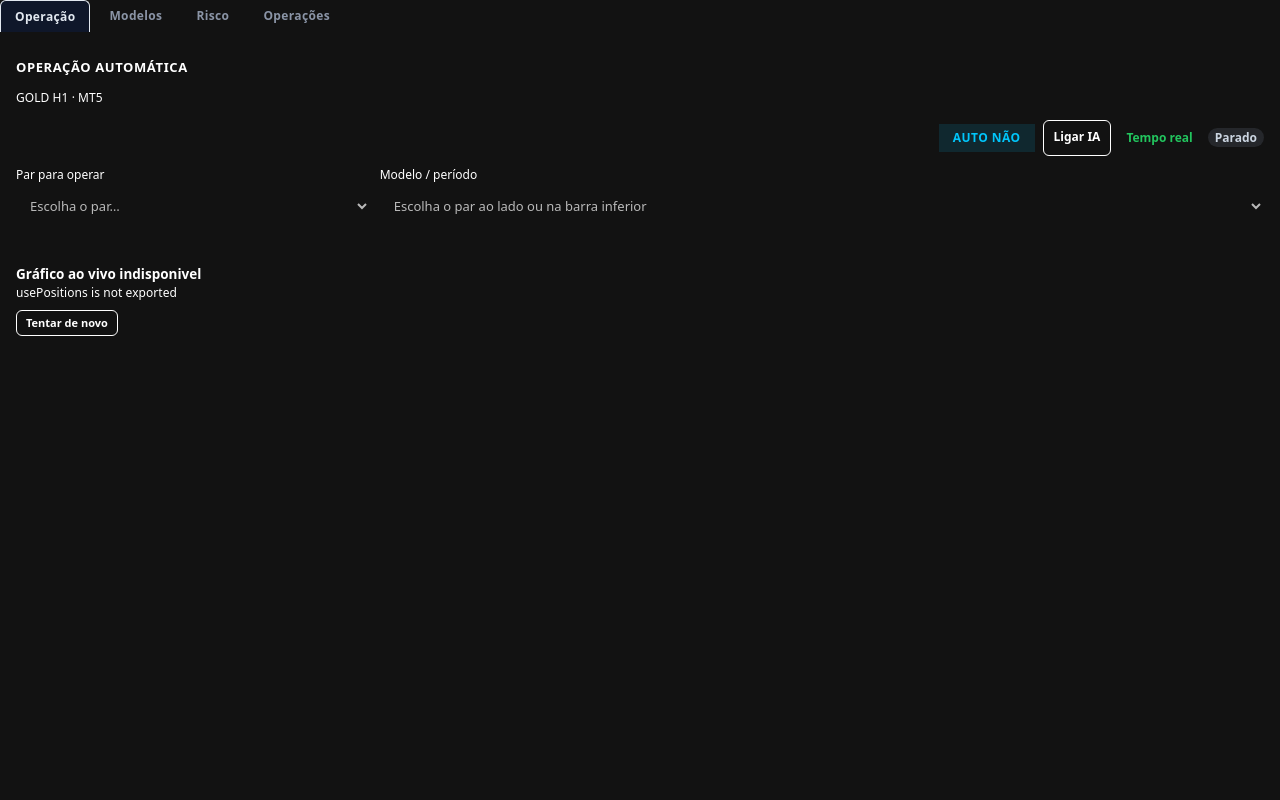
it: RobotTabs — cada sub-aba mostra UMA coisa só (11/10/2026) › PROVA NEGATIVA: a tabela de modelos so e montada na sub-aba Modelos
Click the tab "Modelos" at (136,16), box [94,0,177,31]
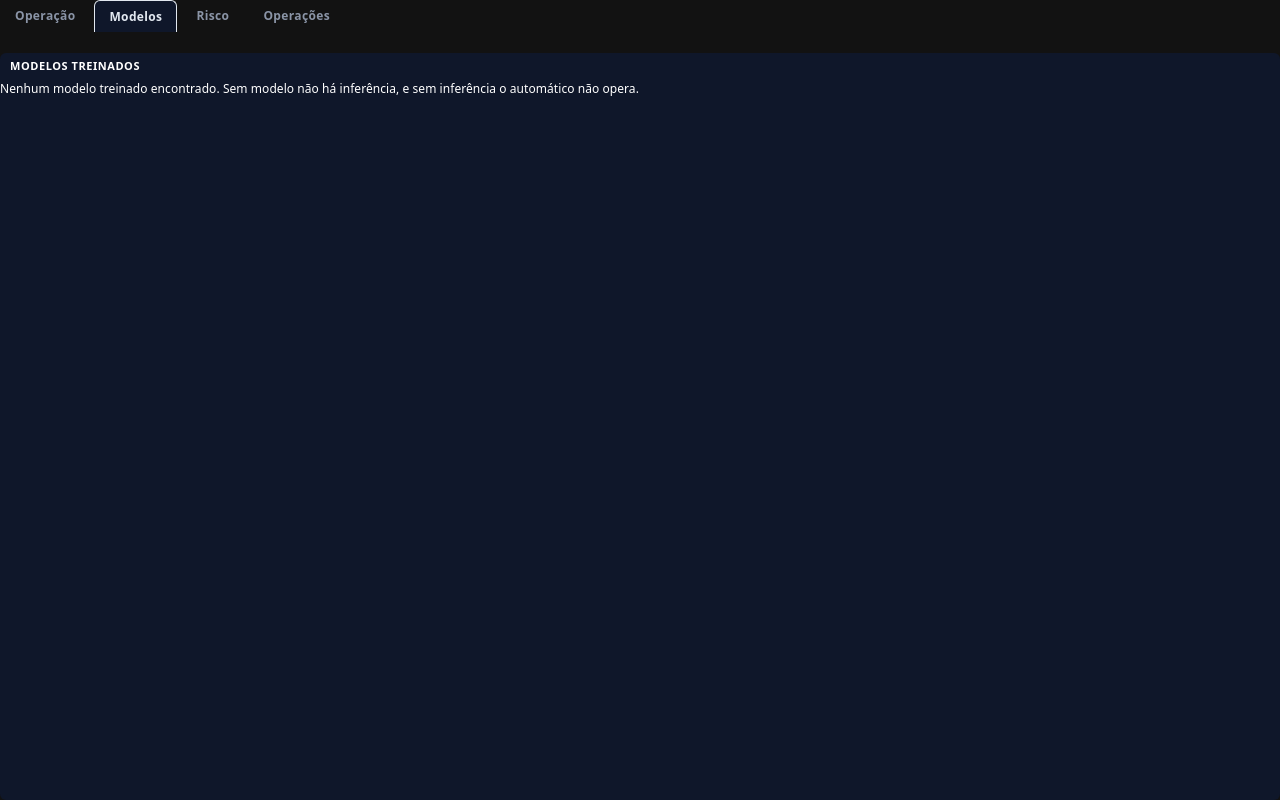
Expected: the element named "Modelos treinados" is shown
